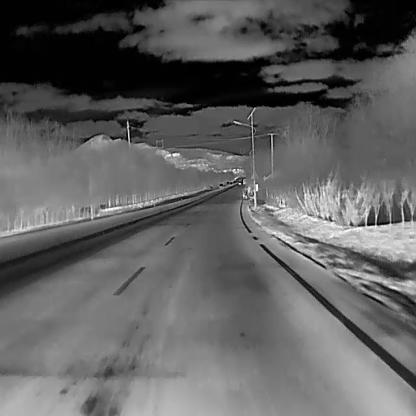bus: (242, 178, 246, 184)
car: (225, 180, 229, 186), (219, 182, 223, 187), (229, 180, 232, 186), (238, 182, 241, 184)
